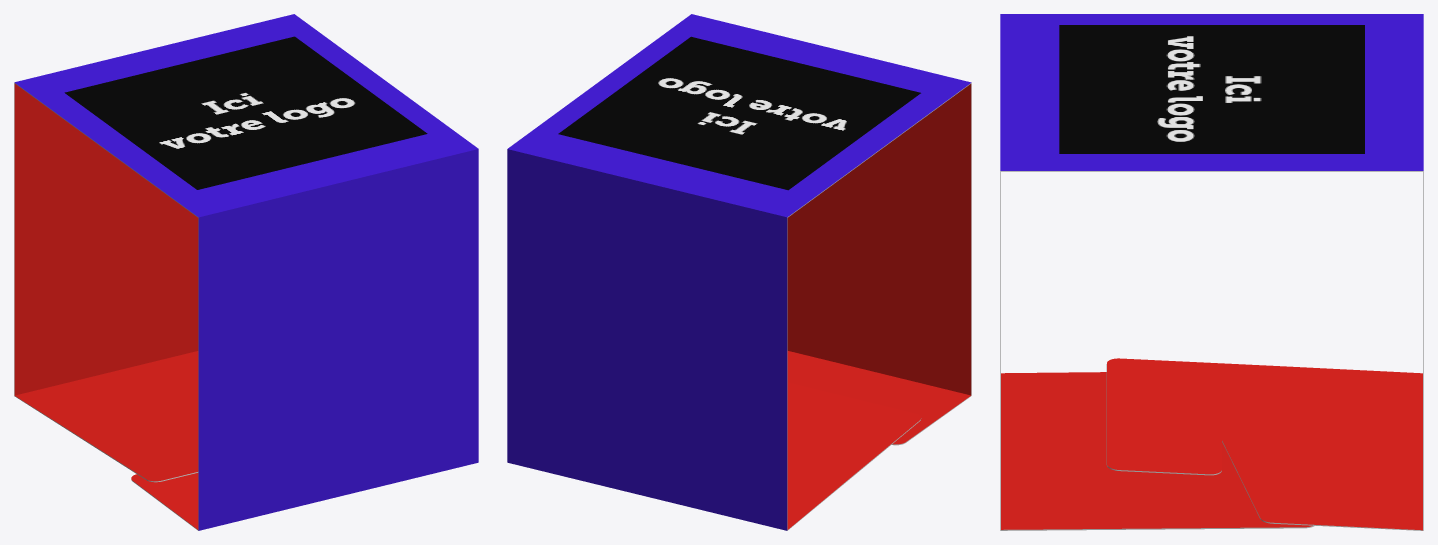
The model's file is bague.glb.
3 views of the same model, side by side, from view 1: azimuth 30°, elevation 25°; view 2: azimuth 150°, elevation 25°; view 3: azimuth 270°, elevation 25° (orthographic). The views are drawn at different scales.
Visible parts, largest first — view 1: bague, logo; view 2: bague, logo; view 3: bague, logo.
Part boxes in pixels (left/top/right/bottom): bague: left=14, top=14, right=478, bottom=530; logo: left=64, top=36, right=427, bottom=189; bague: left=507, top=14, right=971, bottom=530; logo: left=558, top=36, right=920, bottom=190; bague: left=1000, top=14, right=1423, bottom=530; logo: left=1059, top=25, right=1364, bottom=153.
Bounding box in the file's own units: 0.0587 × 0.0632 × 0.0669.
4 materials, 1 textured.
